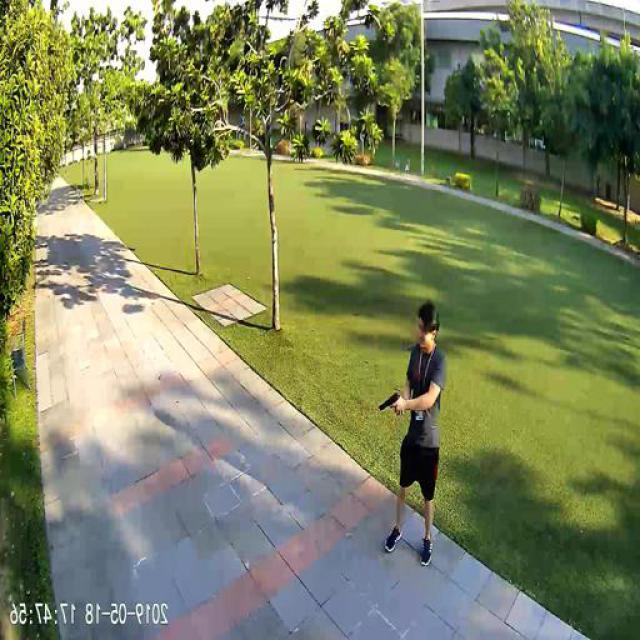Gun: (380, 387, 402, 415)
